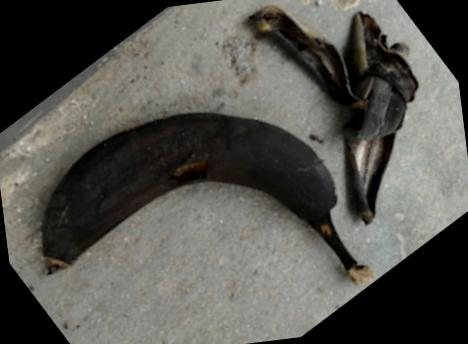Banana Overripe: (0, 0, 444, 344)
